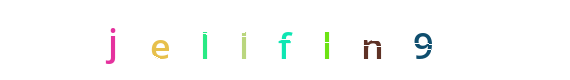9: (383, 0, 463, 80)
E: (120, 0, 200, 80)
F: (253, 0, 333, 80)
J: (72, 0, 152, 80)
L: (210, 0, 290, 80), (245, 0, 325, 80), (286, 0, 366, 80)
N: (332, 0, 412, 80)
